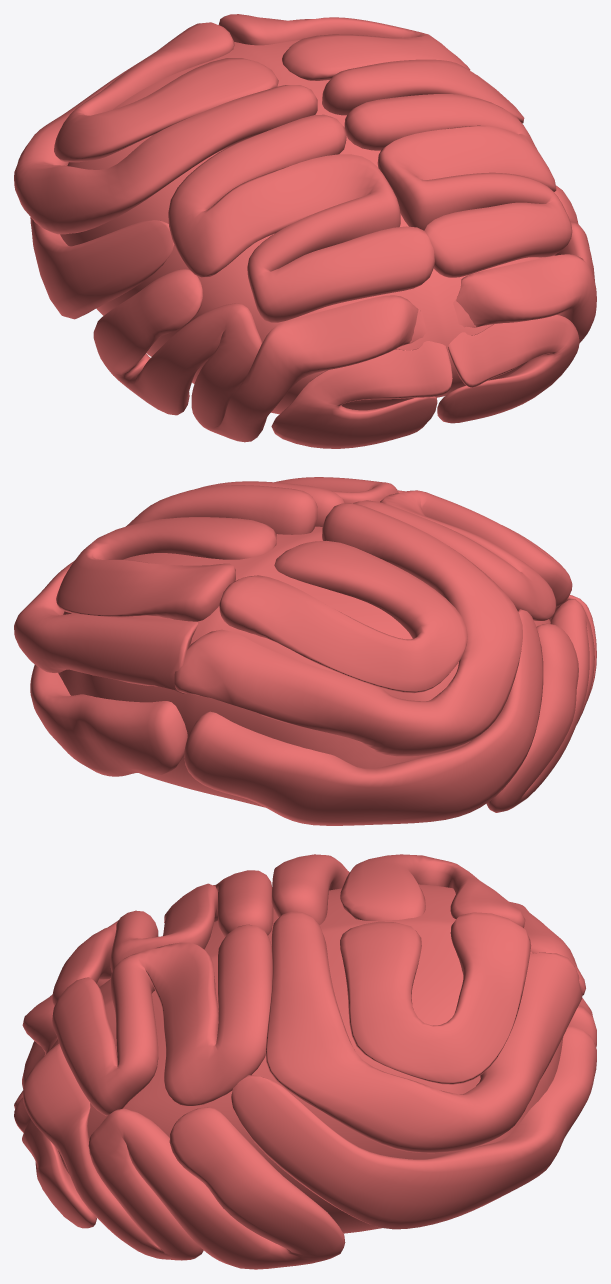
The model's file is Brain.fbx.
3 views of the same model, one above another, from view 1: azimuth 30°, elevation 25°; view 2: azimuth 150°, elevation 25°; view 3: azimuth 270°, elevation 25° (orthographic). The views are drawn at different scales.
Parts seen in each view (by area): view 1: polySurface4; view 2: polySurface4; view 3: polySurface4.
Part boxes in pixels (<box>): polySurface4: <box>14,14,596,448</box>; polySurface4: <box>14,477,596,825</box>; polySurface4: <box>14,854,596,1269</box>.
Size of the model in its own units: 2.49 by 1.42 by 2.65.
